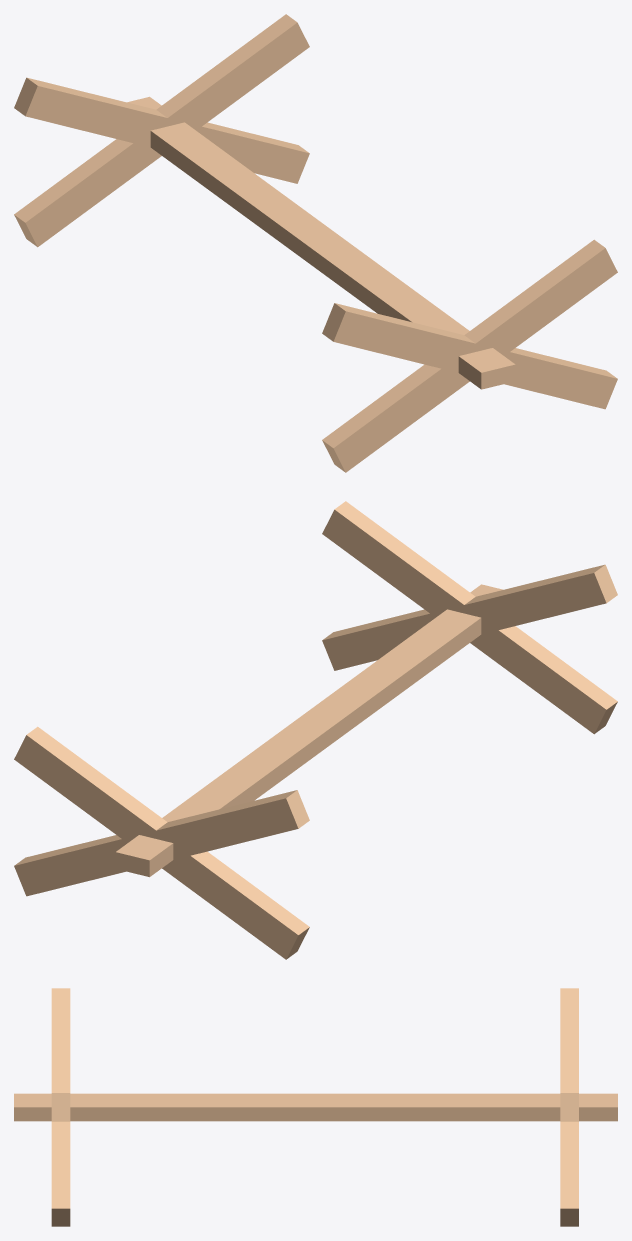
File: bedrollFrame.glb
3 renders of one model, top to bottom at view 1: azimuth 30°, elevation 25°; view 2: azimuth 150°, elevation 25°; view 3: azimuth 270°, elevation 25°, orthographic. The views are drawn at different scales.
Parts seen in each view (by area): view 1: bedrollFrame; view 2: bedrollFrame; view 3: bedrollFrame.
Boxes of the visible parts, x1,y1,x2,y2 form: bedrollFrame: [14, 14, 617, 472]; bedrollFrame: [14, 501, 617, 959]; bedrollFrame: [14, 988, 617, 1226].
Bounding box in the file's own units: 1.09 × 0.5908 × 2.43.
